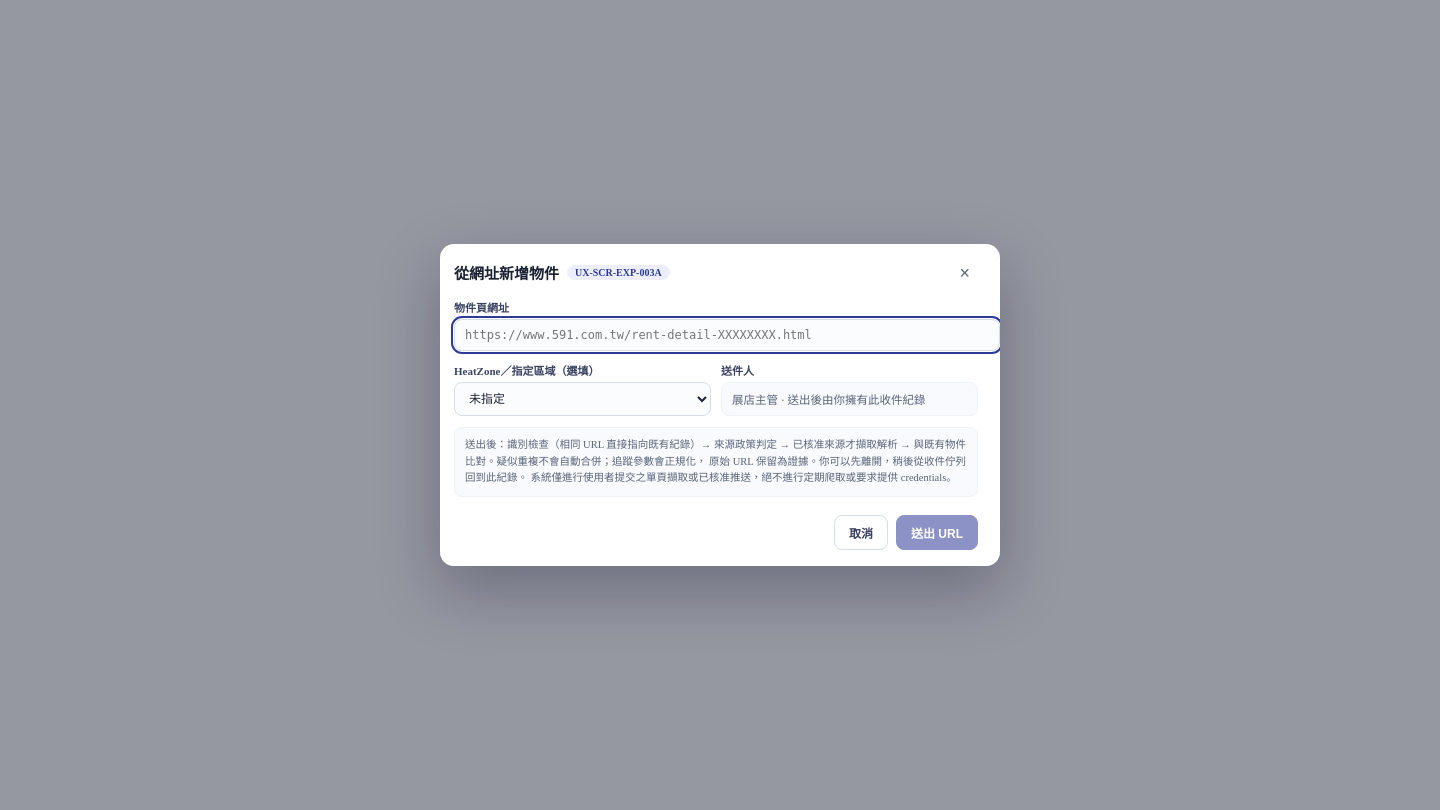
AddListingFromUrlDialog › leaves source policy authority with the server
Type "https://www.sinyi.com.tw/buy/house/1234" into the field with test id "intake-url-input" at (727, 335), box [454,319,1000,351]
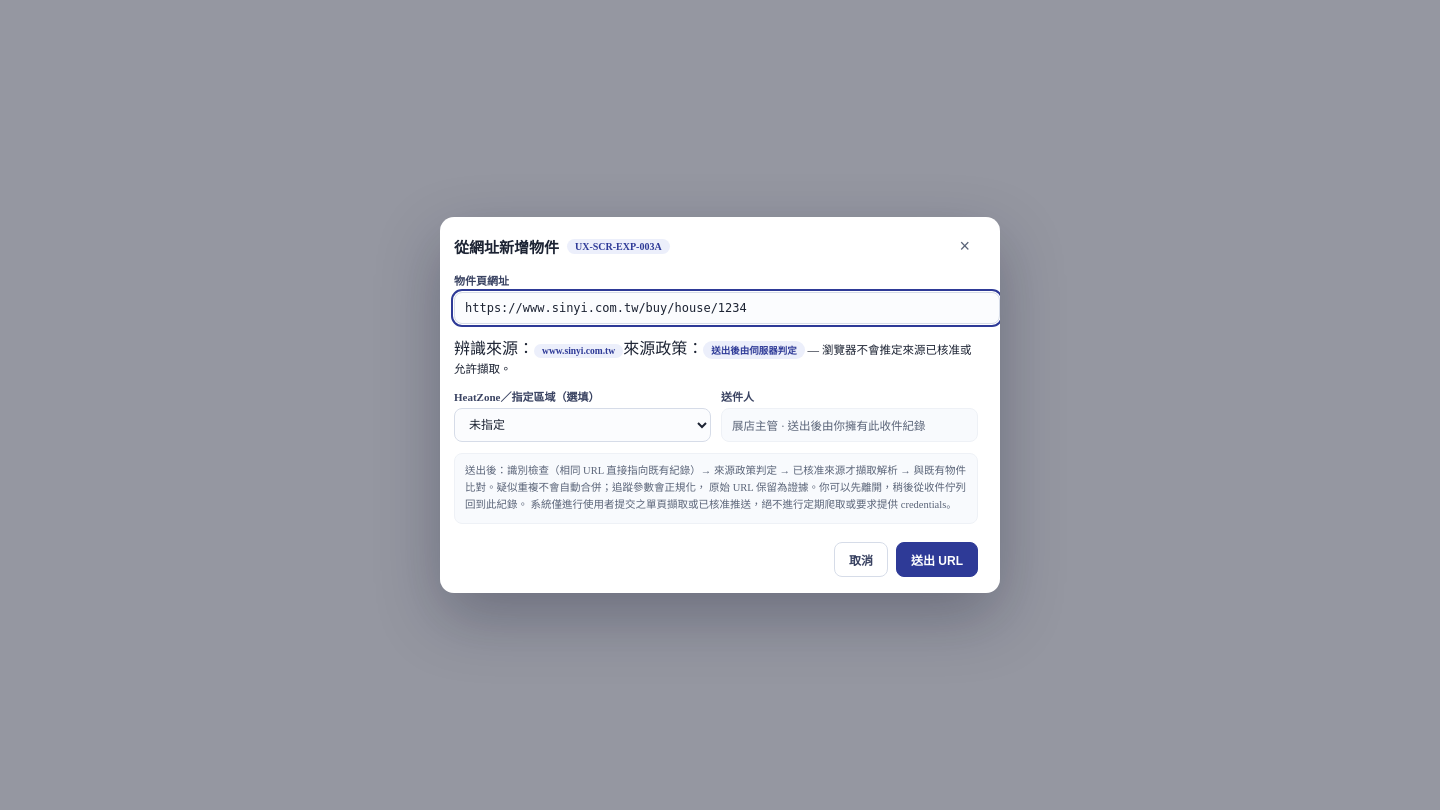
Expected: the element with test id "intake-source-preview" does not show "可自動處理擷取", [454,335,978,377]
Now the element with test id "intake-source-preview" shows "送出後由伺服器判定", box [711,346,797,356]
Now the element with test id "intake-source-preview" shows "www.sinyi.com.tw", box [542,346,615,356]
